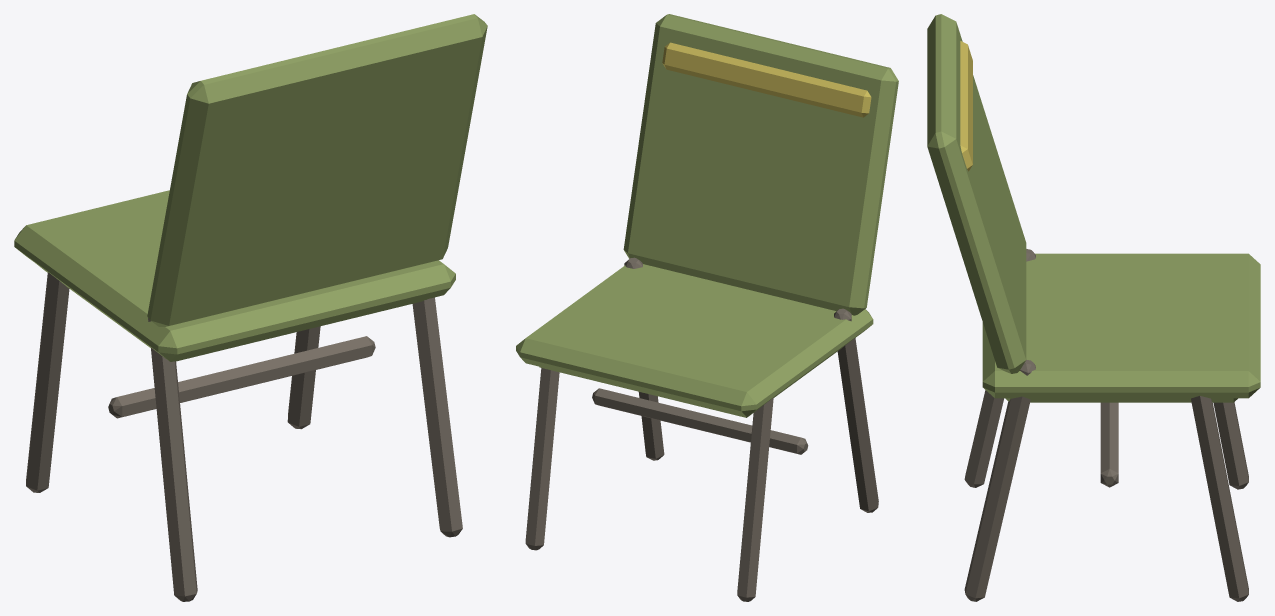
The model's file is park_chair.glb.
3 views of the same model, side by side, from view 1: azimuth 30°, elevation 25°; view 2: azimuth 150°, elevation 25°; view 3: azimuth 270°, elevation 25° (orthographic). The views are drawn at different scales.
Visible parts, largest first — view 1: park_chair; view 2: park_chair; view 3: park_chair.
Part boxes in pixels (x1,y1,x2,y2): park_chair: [14, 14, 487, 601]; park_chair: [516, 14, 898, 601]; park_chair: [927, 14, 1260, 601].
Size of the model in its own units: 0.5 by 0.8609 by 0.5519.
